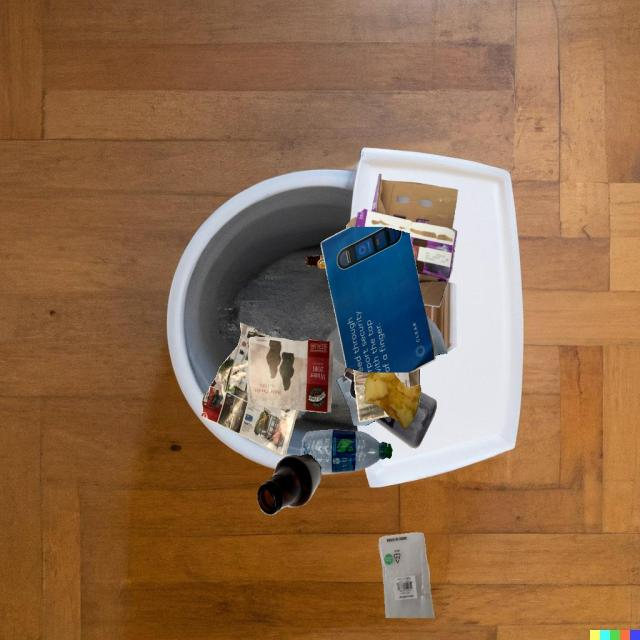biowaste: (364, 373, 421, 429)
cardboard: (347, 174, 458, 307)
glass: (257, 454, 321, 515), (306, 255, 326, 269)
paper: (320, 227, 435, 373), (201, 323, 298, 456), (247, 336, 333, 413), (336, 367, 375, 425), (353, 369, 390, 423), (408, 368, 420, 386)
plastic: (378, 532, 434, 618), (301, 429, 392, 473), (373, 392, 437, 448), (354, 382, 418, 408), (426, 313, 447, 355)
